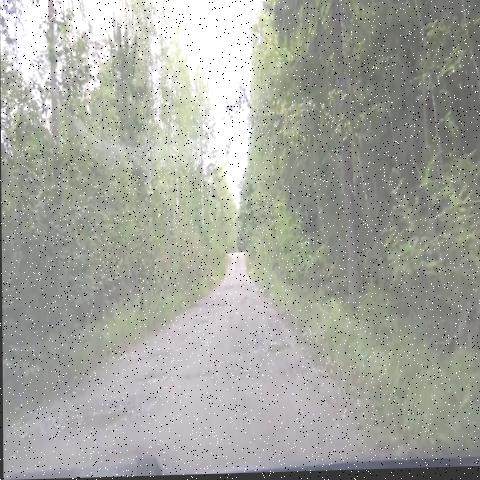pothole: (51, 392, 163, 440), (248, 323, 299, 369), (278, 361, 319, 403), (175, 364, 219, 393), (234, 364, 271, 395), (138, 346, 181, 367), (225, 343, 255, 367), (138, 372, 173, 392), (192, 312, 215, 337), (209, 297, 229, 320), (236, 297, 255, 312)
